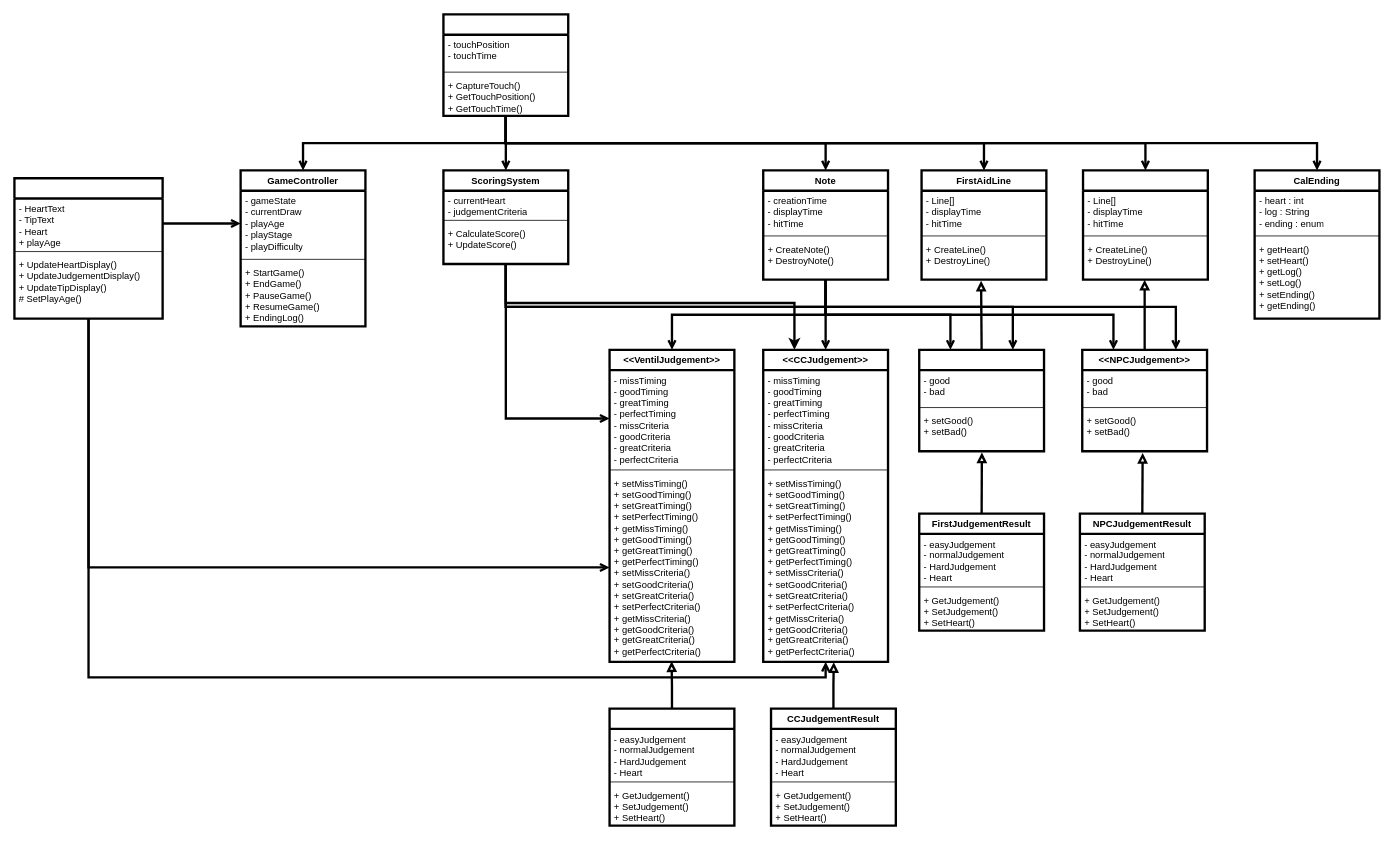
This 1394x842 diagram has some shape labels left out. The shapes that lost their labels are listed below. From the top down, each one's box as (x1, y1, x2, y2) in pixels, then its label:
(442, 13, 569, 117): InputController
(1081, 169, 1209, 280): NPCLine
(13, 177, 163, 319): UIController
(918, 348, 1045, 452): <<FirstJudgement>>
(608, 707, 735, 826): VentilJudgementResult
